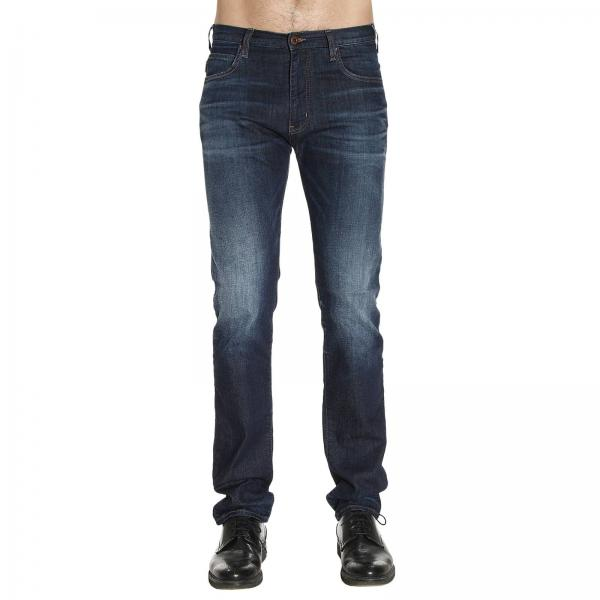Jeans: (193, 21, 398, 519)
